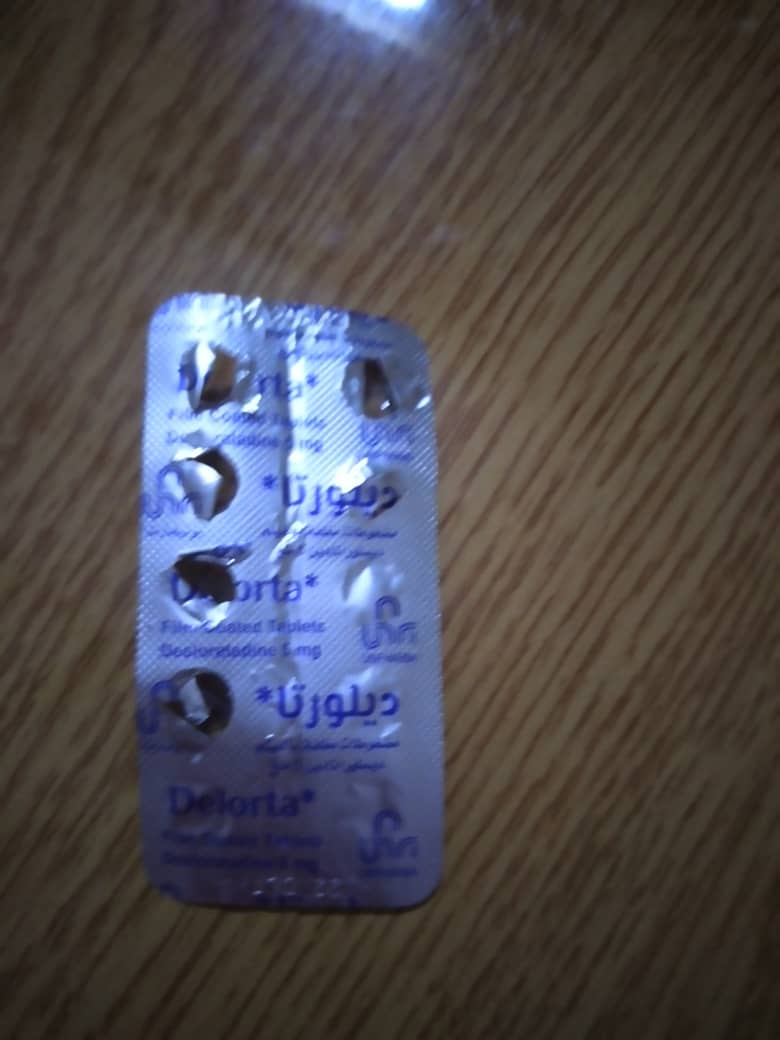Medicine: (110, 260, 463, 923)
